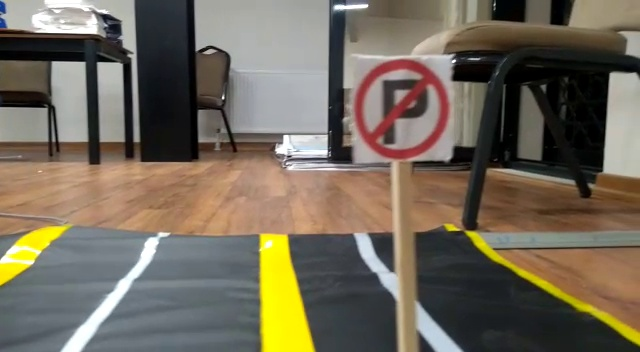park_yapilmaz: (346, 53, 451, 162)
